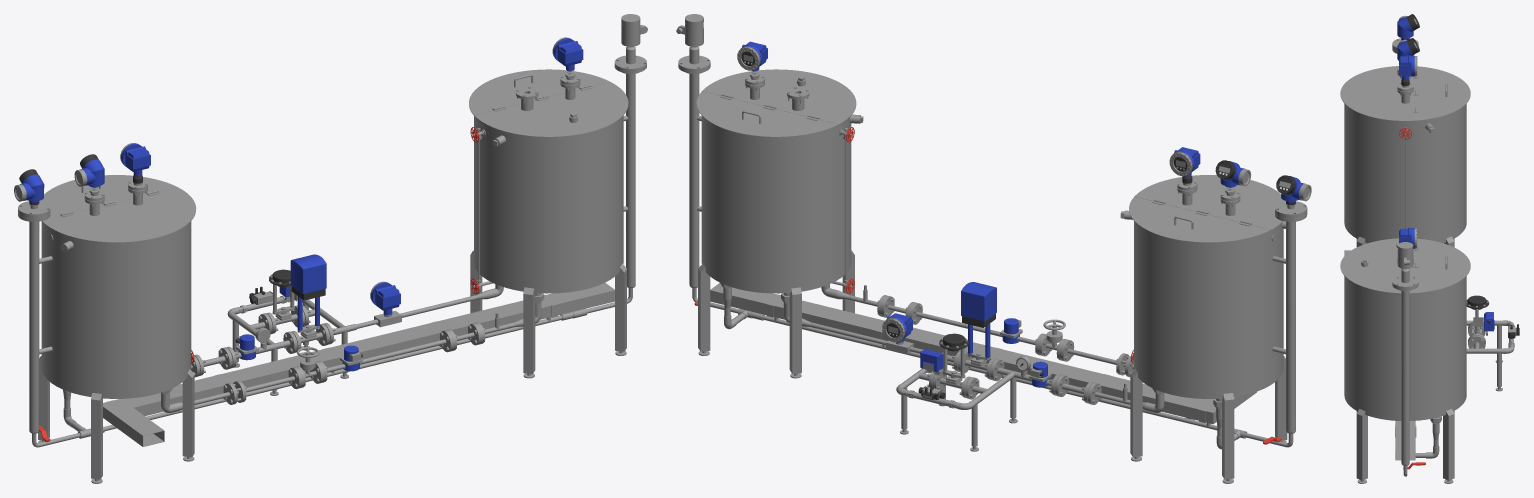
File: Machine 2.2.fbx
3 views of the same model, side by side, from view 1: azimuth 30°, elevation 25°; view 2: azimuth 150°, elevation 25°; view 3: azimuth 270°, elevation 25° (orthographic). The views are drawn at different scales.
Visible parts, largest first — view 1: KYANYAP1-001-AA, KYANYAP1-004-AA.001, KYANYAP1-004-AA.002, KYANYAP1-002-AA.003, KYANYAP1-002-AA.005, KYANYAP1-002-AA.004; view 2: KYANYAP1-001-AA, KYANYAP1-004-AA.001, KYANYAP1-004-AA.002, KYANYAP1-002-AA.004, KYANYAP1-002-AA.005, KYANYAP1-002-AA.003; view 3: KYANYAP1-001-AA, KYANYAP1-004-AA.002, KYANYAP1-002-AA.004, KYANYAP1-004-AA.001, KYANYAP1-002-AA.003.
Part boxes in pixels (bbox=[...]): KYANYAP1-001-AA: bbox=[18, 14, 647, 483]; KYANYAP1-004-AA.001: bbox=[74, 154, 104, 187]; KYANYAP1-004-AA.002: bbox=[14, 169, 44, 202]; KYANYAP1-002-AA.003: bbox=[552, 37, 583, 70]; KYANYAP1-002-AA.005: bbox=[370, 281, 400, 315]; KYANYAP1-002-AA.004: bbox=[120, 143, 150, 176]; KYANYAP1-001-AA: bbox=[676, 14, 1307, 483]; KYANYAP1-004-AA.001: bbox=[1215, 160, 1251, 187]; KYANYAP1-004-AA.002: bbox=[1276, 175, 1311, 202]; KYANYAP1-002-AA.004: bbox=[1169, 147, 1200, 176]; KYANYAP1-002-AA.005: bbox=[882, 313, 912, 342]; KYANYAP1-002-AA.003: bbox=[737, 41, 767, 70]; KYANYAP1-001-AA: bbox=[1340, 38, 1519, 483]; KYANYAP1-004-AA.002: bbox=[1397, 14, 1419, 39]; KYANYAP1-002-AA.004: bbox=[1399, 55, 1417, 79]; KYANYAP1-004-AA.001: bbox=[1397, 38, 1419, 60]; KYANYAP1-002-AA.003: bbox=[1399, 227, 1417, 248].
Bounding box in the file's own units: 291 × 136 × 87.96.
